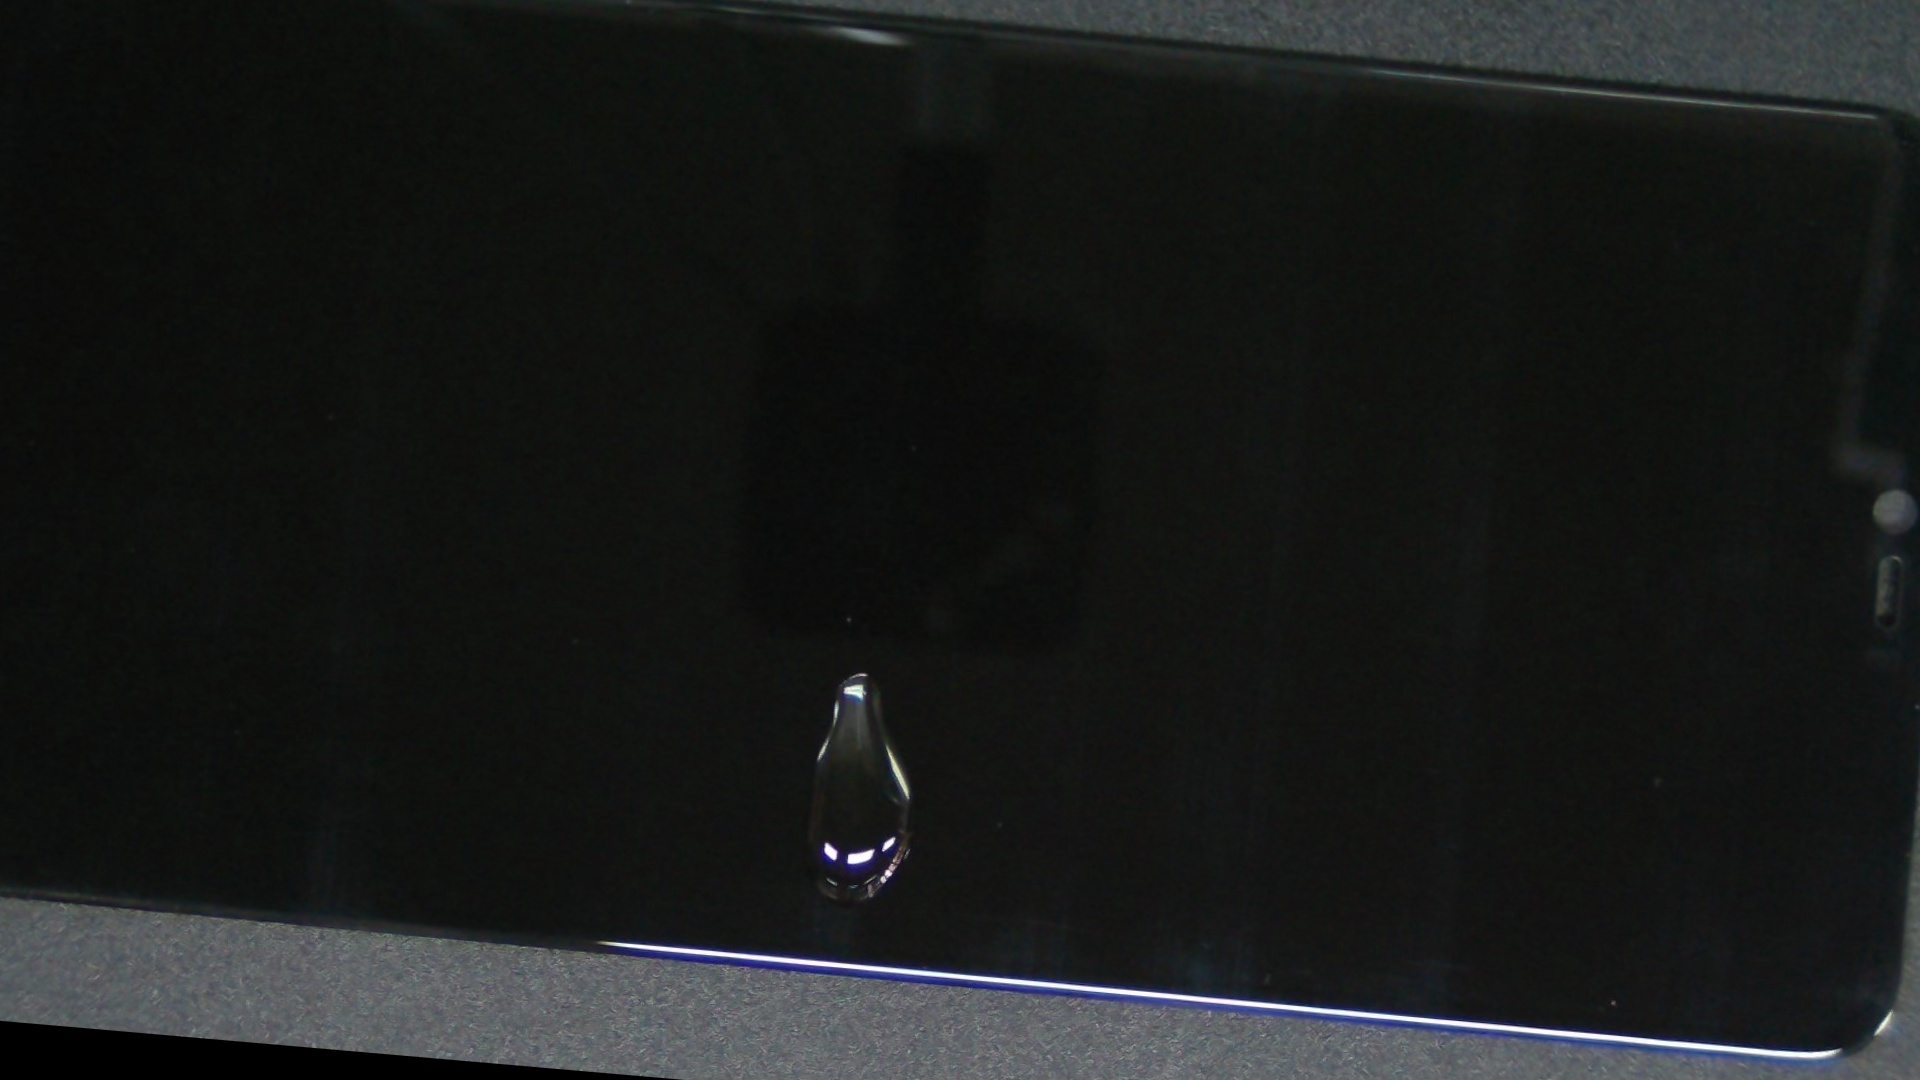oil: (314, 245, 1414, 1080)
